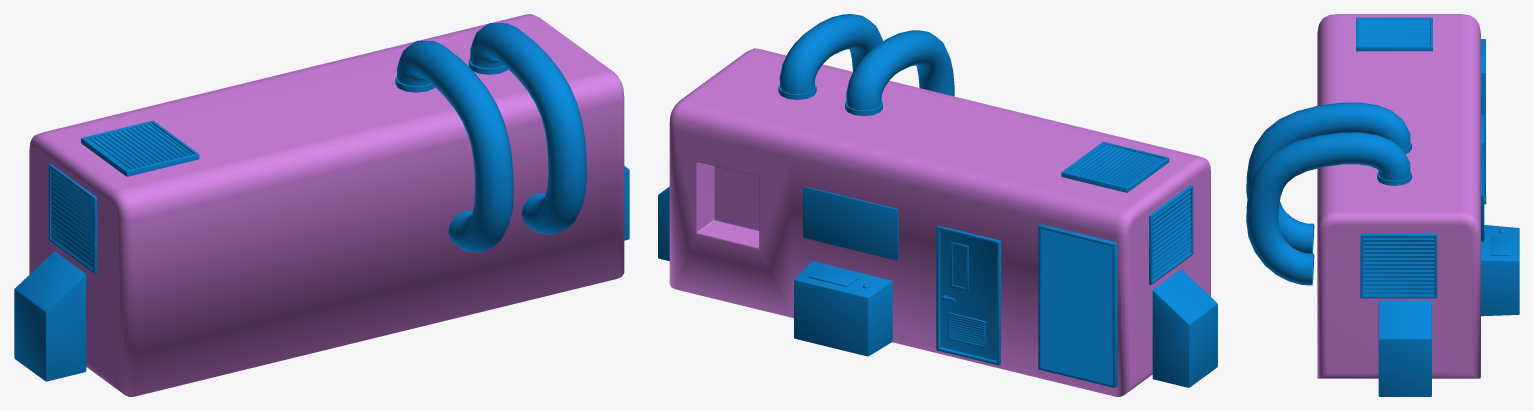
File: OxygenRecharge.fbx
3 views of the same model, side by side, from view 1: azimuth 30°, elevation 25°; view 2: azimuth 150°, elevation 25°; view 3: azimuth 270°, elevation 25° (orthographic). The views are drawn at different scales.
Parts seen in each view (by area): view 1: Box228, Line001, Line002, Object037, ASSET_BaseRecarga; view 2: Box228, ASSET_BaseRecarga, Box372, Object037, Line002, Line001, FIN_PuertaRecarga, Box229; view 3: Box228, ASSET_BaseRecarga, Line001, Line002, Box229.
Part boxes in pixels (left/top/right/bottom): Box228: left=29, top=14, right=624, bottom=396; Line001: left=470, top=23, right=586, bottom=234; Line002: left=397, top=40, right=513, bottom=252; Object037: left=14, top=251, right=86, bottom=381; ASSET_BaseRecarga: left=48, top=120, right=199, bottom=273; Box228: left=669, top=48, right=1210, bottom=396; ASSET_BaseRecarga: left=794, top=141, right=1193, bottom=387; Box372: left=936, top=225, right=1000, bottom=365; Object037: left=1152, top=269, right=1217, bottom=387; Line002: left=846, top=30, right=954, bottom=110; Line001: left=779, top=14, right=882, bottom=94; FIN_PuertaRecarga: left=948, top=312, right=985, bottom=347; Box229: left=658, top=186, right=669, bottom=261; Box228: left=1317, top=14, right=1480, bottom=378; ASSET_BaseRecarga: left=1356, top=17, right=1519, bottom=316; Line001: left=1246, top=132, right=1410, bottom=285; Line002: left=1246, top=102, right=1410, bottom=253; Box229: left=1378, top=300, right=1431, bottom=396.
Size of the model in its own units: 874 by 426 by 361.
